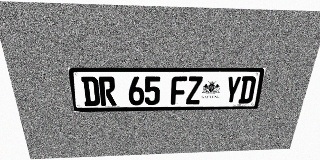5: (145, 76, 160, 105)
6: (128, 76, 144, 105)
D: (81, 77, 100, 106), (238, 76, 257, 104)
F: (171, 76, 187, 105)
R: (98, 77, 117, 106)
Y: (223, 76, 242, 104)
Z: (186, 76, 203, 104)
